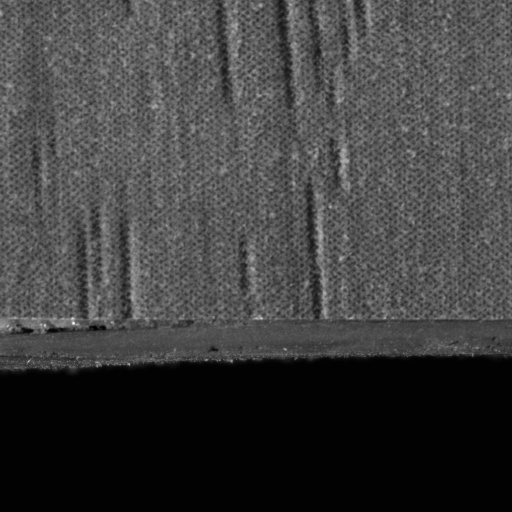kaijiao: (0, 314, 204, 380)
